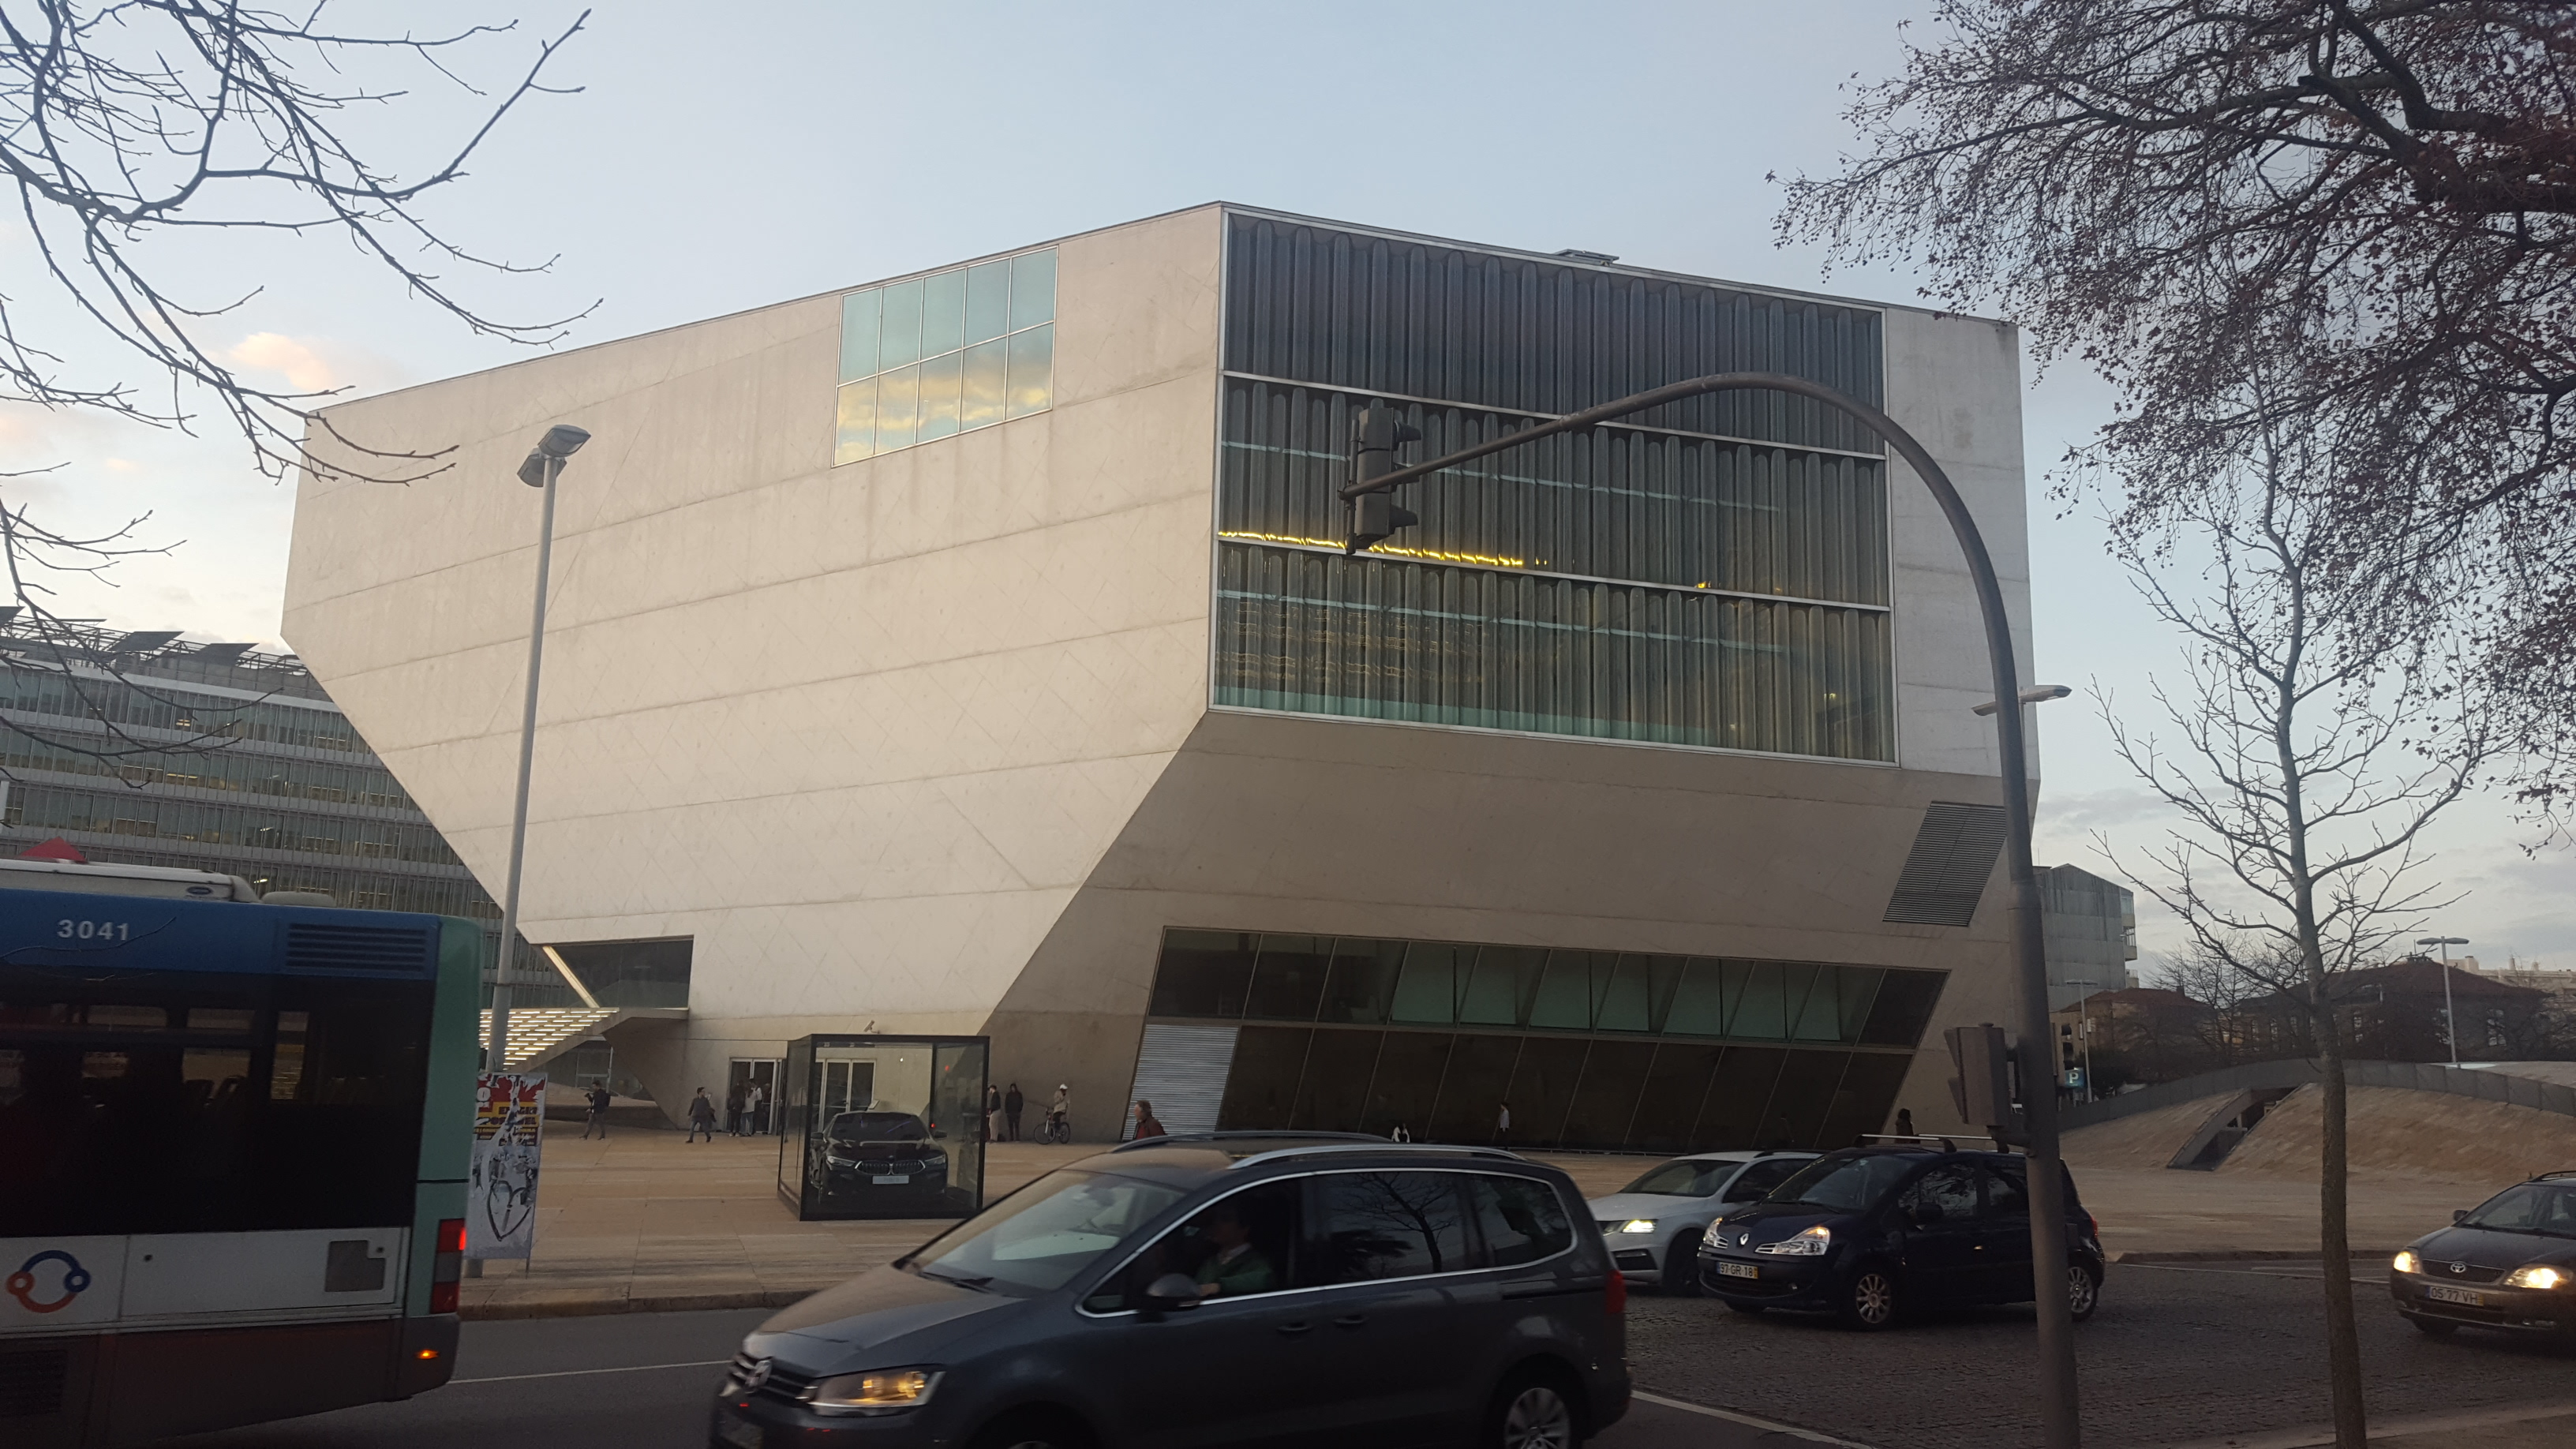musica: (276, 198, 1767, 927)
